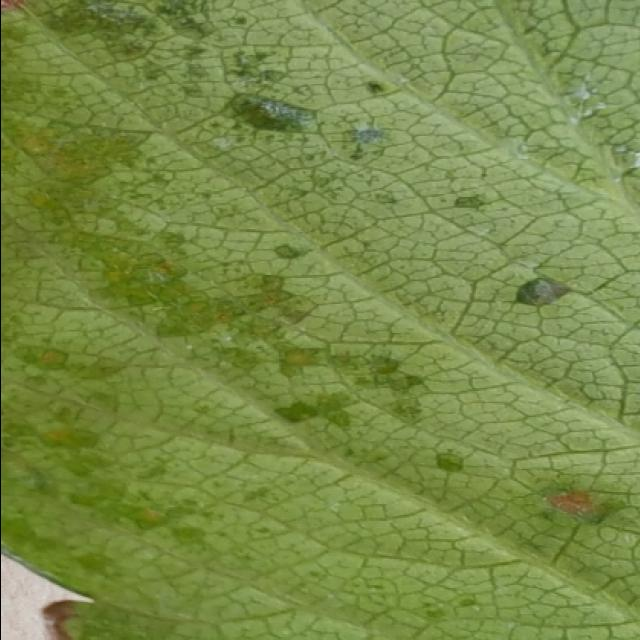Angular Leafspot: (2, 2, 622, 640)
